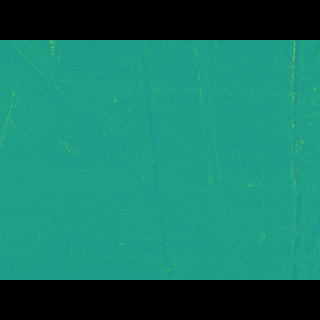Loch: (1, 69, 225, 231), (128, 69, 182, 250), (190, 68, 229, 207), (282, 70, 310, 250)
